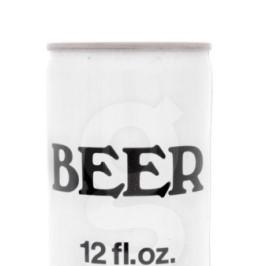beer: (45, 40, 215, 266)
